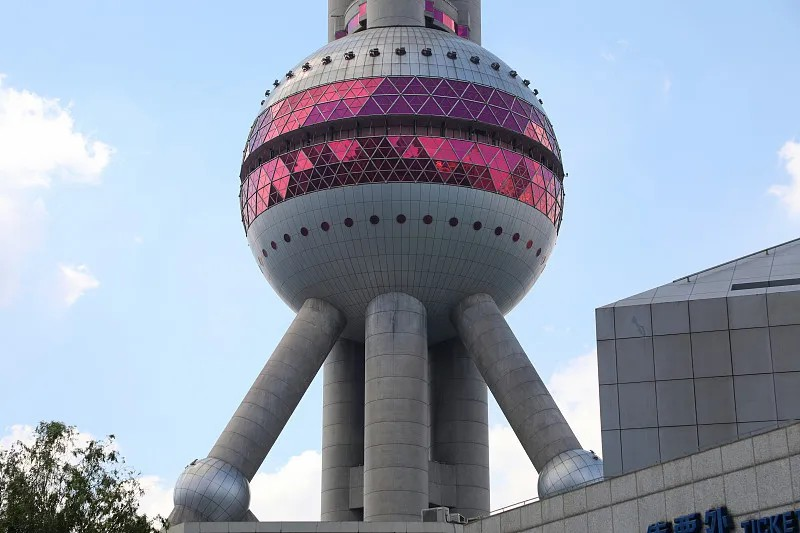Oriental: (166, 1, 600, 521)
